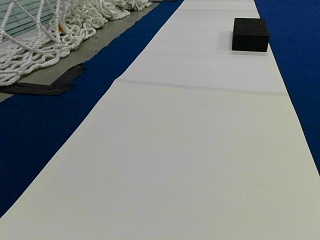block: (231, 18, 269, 51)
